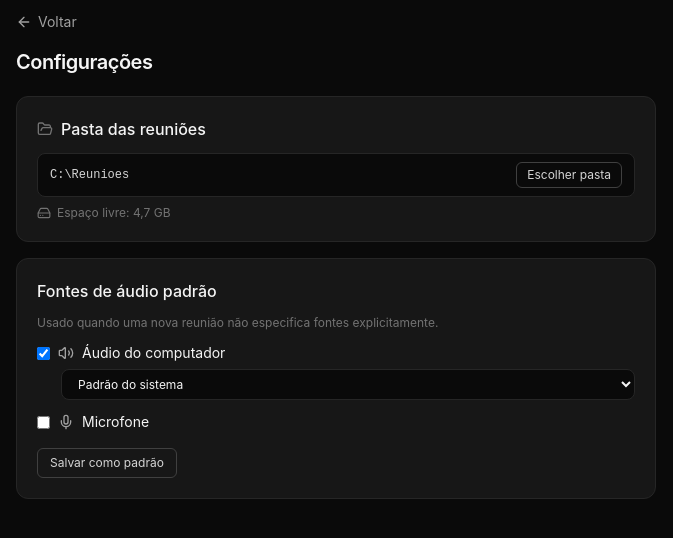
Test: Settings › mostra a recusa do backend ao escolher uma pasta invalida
Expected: the text "C:\\Reunioes" is shown, [50,168,129,182]
Click the button "Escolher pasta".
click(569, 175)  # box [516,162,622,188]
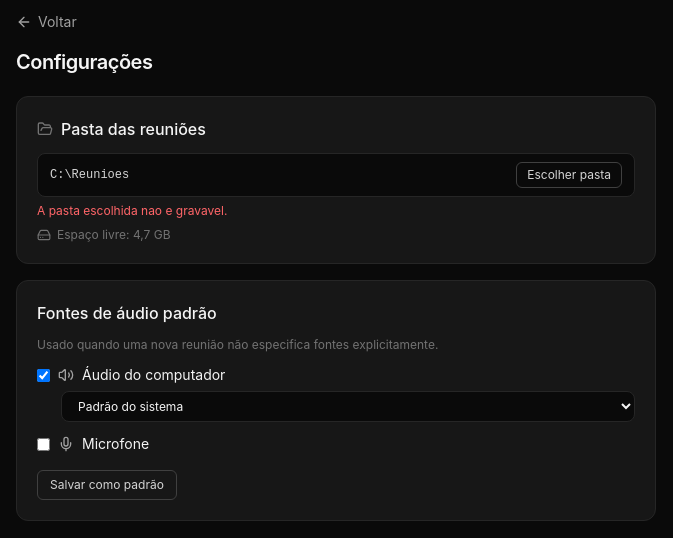
Result: the text "A pasta escolhida nao e gravavel." is shown at [37,203,227,218]
